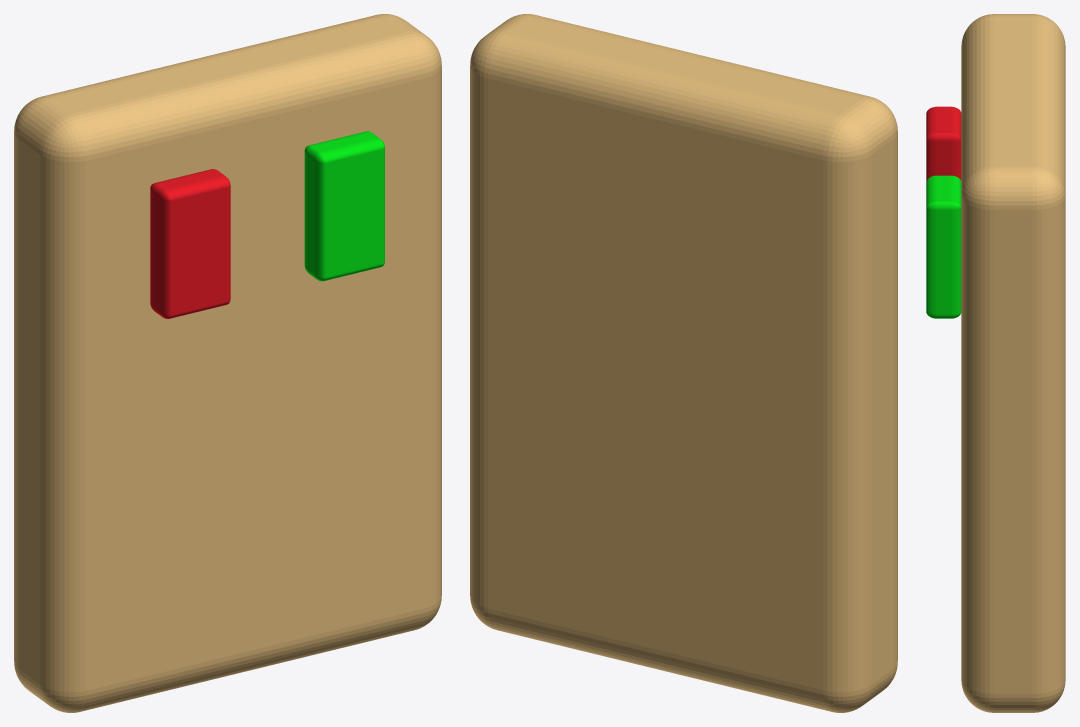
The model's file is Bomb.fbx.
3 renders of one model, left to right at view 1: azimuth 30°, elevation 25°; view 2: azimuth 150°, elevation 25°; view 3: azimuth 270°, elevation 25°, orthographic. The views are drawn at different scales.
Parts seen in each view (by area): view 1: Cube, Cube.002, Cube.001; view 2: Cube; view 3: Cube, Cube.002, Cube.001.
Part boxes in pixels (bbox=[...]): Cube: bbox=[14, 14, 441, 712]; Cube.002: bbox=[304, 131, 384, 281]; Cube.001: bbox=[150, 169, 230, 318]; Cube: bbox=[470, 14, 897, 712]; Cube: bbox=[961, 14, 1065, 712]; Cube.002: bbox=[926, 175, 961, 318]; Cube.001: bbox=[926, 106, 961, 180].
Bounding box in the file's own units: 140 × 200 × 46.42.
